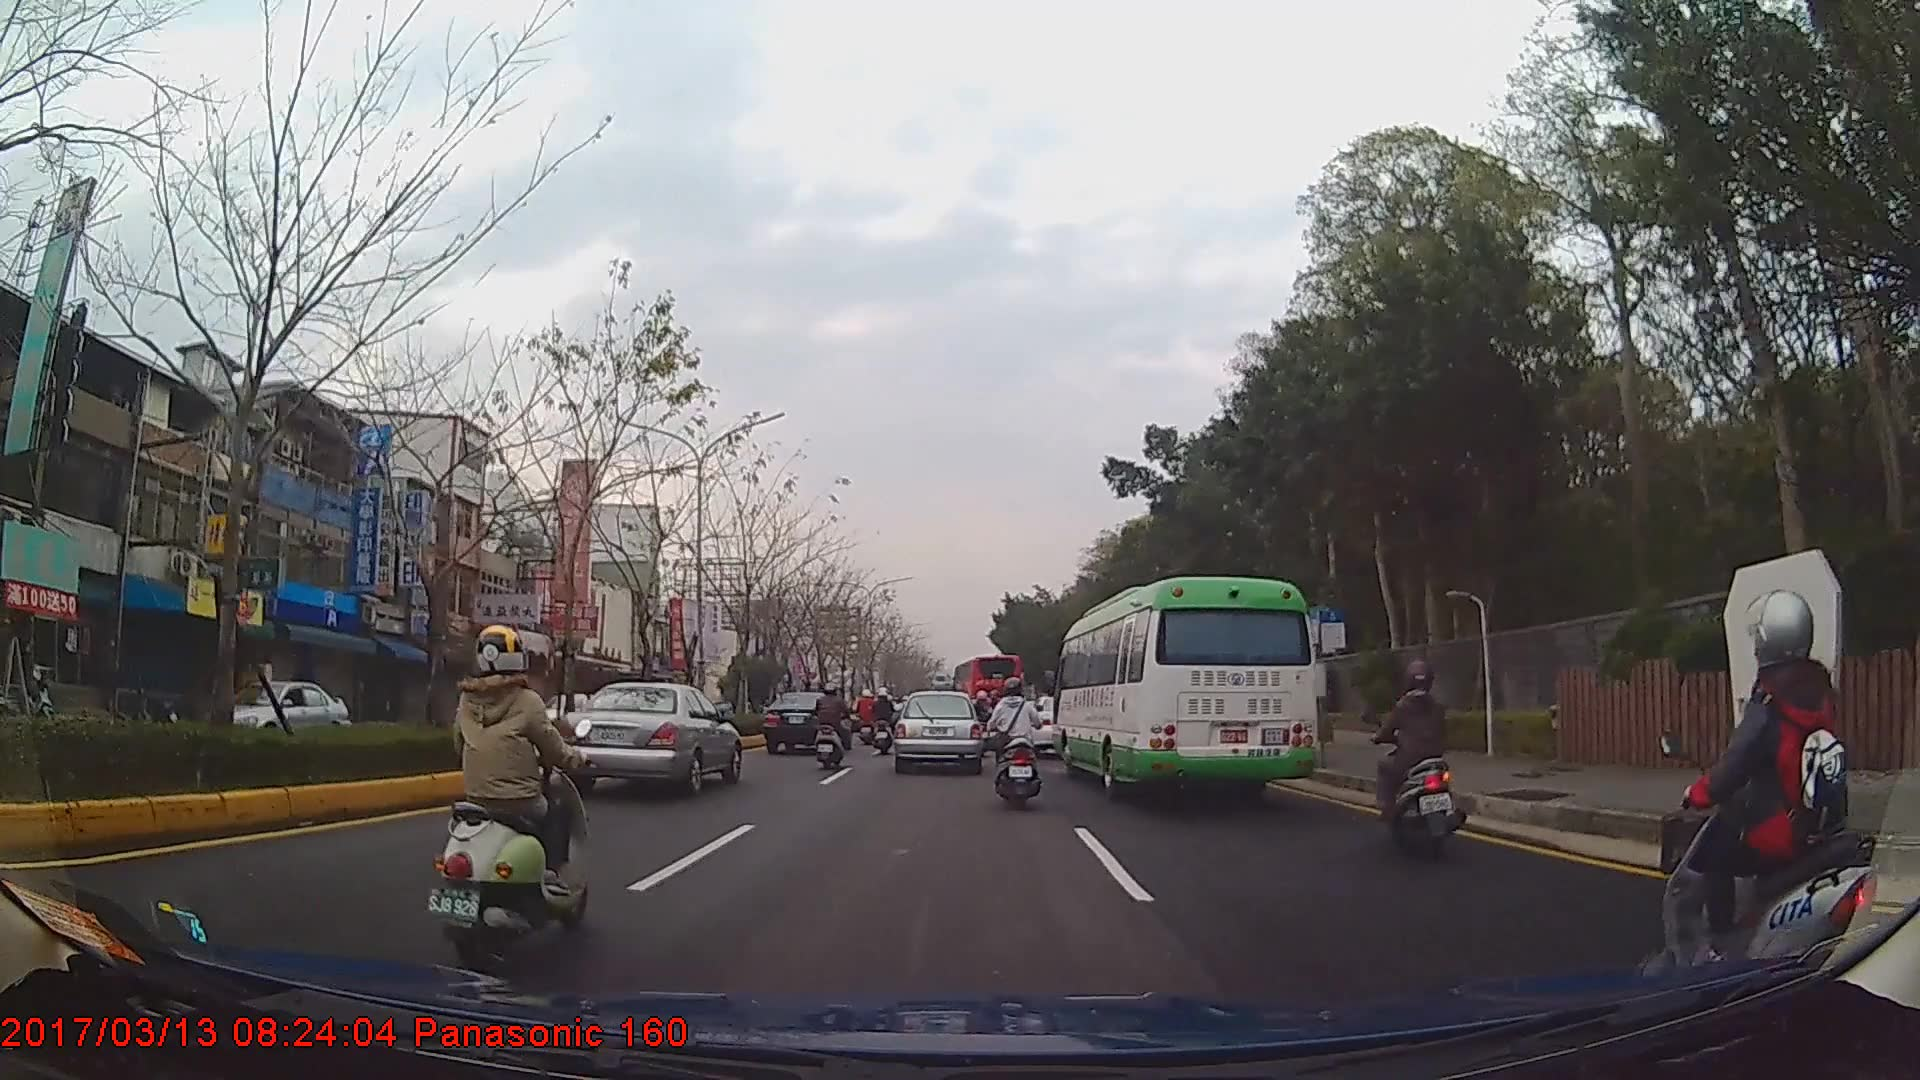rider: (1657, 583, 1885, 1039), (424, 622, 594, 973), (1367, 652, 1466, 860), (982, 676, 1041, 807), (813, 681, 850, 771), (872, 688, 896, 755), (855, 689, 880, 746), (975, 691, 998, 742)
vehicle: (1049, 574, 1317, 798), (558, 677, 740, 795), (196, 668, 351, 744), (890, 688, 982, 771), (760, 688, 852, 754), (950, 649, 1019, 718)
